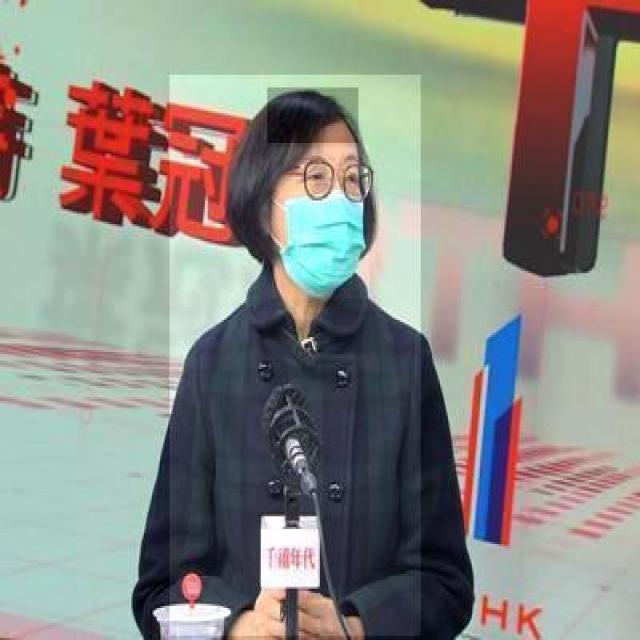face_mask: (272, 147, 370, 299)
glasses: (298, 158, 374, 207)
hand_noglove: (250, 582, 346, 640)
head_nohelmet: (267, 88, 360, 145)
person: (170, 75, 422, 638)
